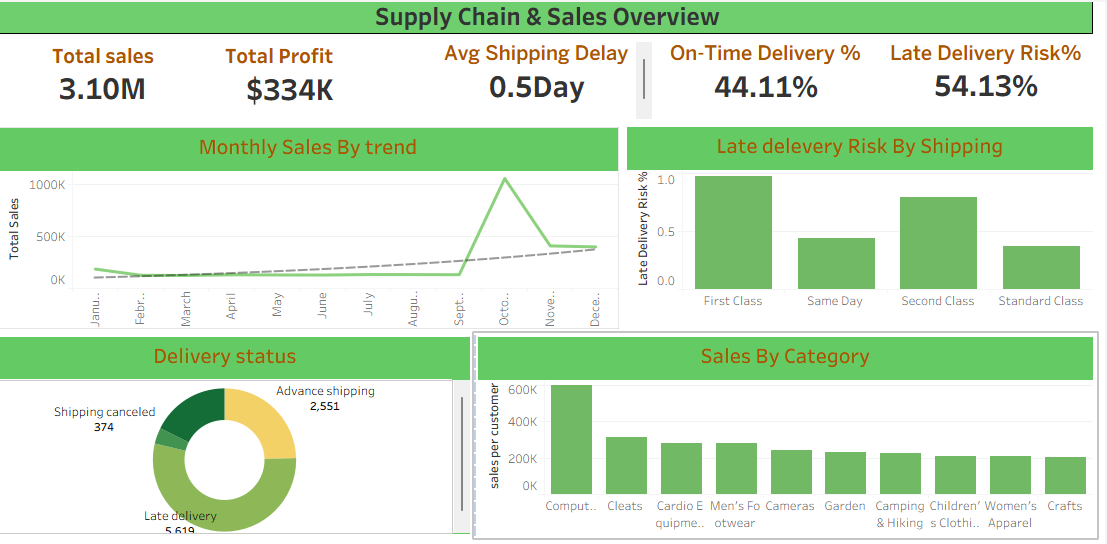

This screenshot's page, from the dashboard's own definition file:
{"tool":"tableau","page":{"name":"Dashboard 1","canvas":[1000,1000],"units":"permille","ordinal":0},"visuals":[{"type":"title","box":[6.8,14.3,986.3,79.1]},{"type":"worksheet","title":"TOATAL SALES","mark":"Automatic","box":[6.8,92.9,198,151.8]},{"type":"worksheet","title":"TOATAL PROFIT","mark":"Automatic","box":[204.8,92.9,197.1,151.8]},{"type":"worksheet","title":"AVG SHIPPING DELAY","mark":"Automatic","box":[401.9,92.9,197.1,151.8]},{"type":"worksheet","title":"On-Time Delivery %","mark":"Automatic","box":[599,92.9,197.1,151.8]},{"type":"worksheet","title":"Late Delivery Risk %","mark":"Automatic","box":[796.1,92.9,197.1,151.8]},{"type":"worksheet","title":"Monthly Sales Trend","mark":"Line","rows":["Calculation_1541638459908497409"],"cols":["order date (DateOrders) (table1)"],"box":[6.8,245.2,537.5,403.6]},{"type":"worksheet","title":"Late Delivery Risk by Shipping Mode","mark":"Automatic","rows":["Calculation_1541638459916152840"],"cols":["Shipping Mode (table1)"],"box":[544.4,245.2,448.8,403.6]},{"type":"worksheet","title":"Delivery Status Donut Chart","mark":"Pie","cols":["Calculation_1541638459920994316","Calculation_1541638459921088526"],"box":[6.8,648.8,369.5,337]},{"type":"worksheet","title":"Sales by Category","mark":"Automatic","rows":["Calculation_1541638459919474697"],"cols":["Category Name (table1)"],"box":[376.3,648.8,616.8,337]}]}

Visuals, with their boxes on the dashboard's canvas, which has no fixed pixel size, in thousandths of its width and height (x1, y1, x2, y2). These are canvas units, not pixel positions in the 1107x544 screenshot, which may show the page scaled, cropped or inside an application window:
title: (7, 14, 993, 93)
"TOATAL SALES" worksheet: (7, 93, 205, 245)
"TOATAL PROFIT" worksheet: (205, 93, 402, 245)
"AVG SHIPPING DELAY" worksheet: (402, 93, 599, 245)
"On-Time Delivery %" worksheet: (599, 93, 796, 245)
"Late Delivery Risk %" worksheet: (796, 93, 993, 245)
"Monthly Sales Trend" worksheet (Line marks): (7, 245, 544, 649)
"Late Delivery Risk by Shipping Mode" worksheet: (544, 245, 993, 649)
"Delivery Status Donut Chart" worksheet (Pie marks): (7, 649, 376, 986)
"Sales by Category" worksheet: (376, 649, 993, 986)
